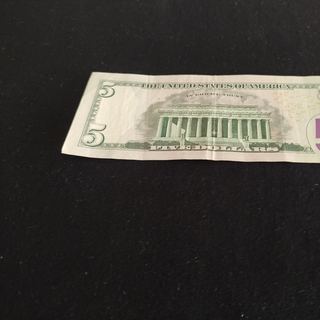5USDBack: (59, 71, 320, 164)
